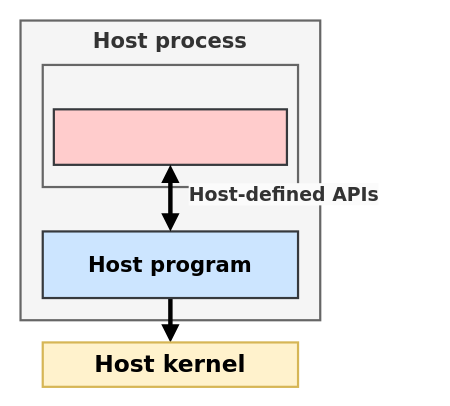
Some shapes in this 450 by 406 pixel diagram are drawn without their labels. Each missing label, with the box of its shape:
Applications: (52, 108, 287, 165)
Guest: (41, 63, 299, 188)
